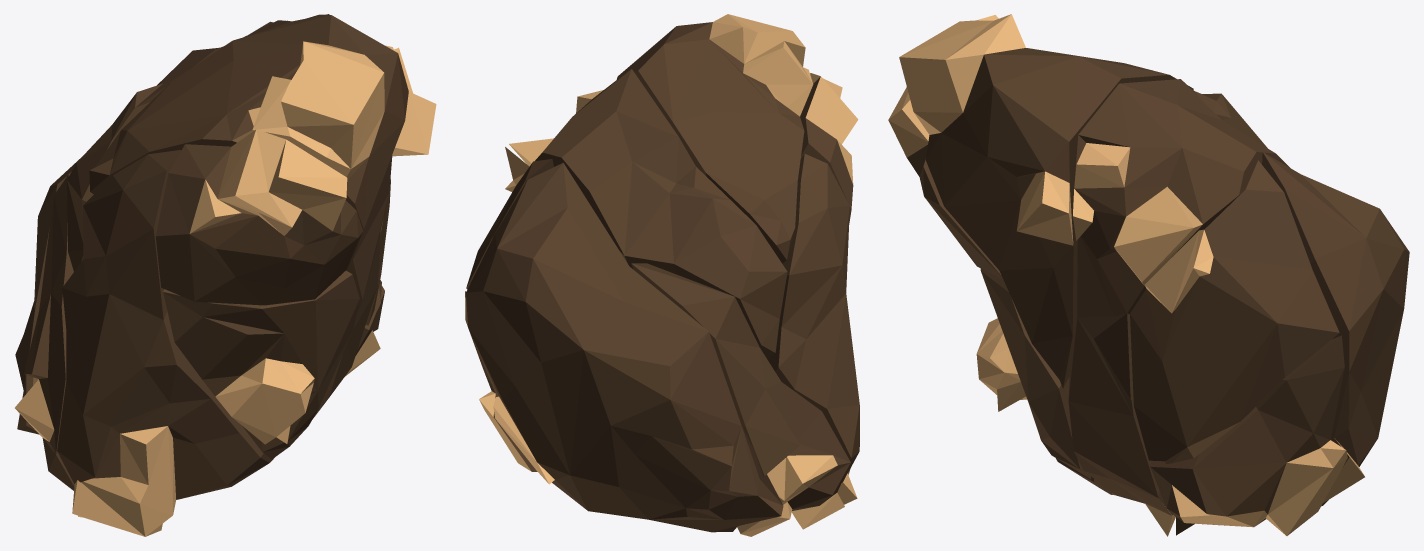
File: SM_LP_PyriteOre_Pieces.fbx
The picture shows the model from 3 angles, left to right: view 1: azimuth 30°, elevation 25°; view 2: azimuth 150°, elevation 25°; view 3: azimuth 270°, elevation 25°; orthographic projection. The views are drawn at different scales.
Visible parts, largest first — view 1: SM_LP_PyriteOre_Piece_1, SM_LP_PyriteOre_Piece_4, SM_LP_PyriteOre_Piece_2, SM_LP_PyriteOre_Piece_3, SM_LP_PyriteOre_Piece_6, SM_LP_PyriteOre_Piece_5, SM_LP_PyriteOre_Piece_7, SM_LP_PyriteOre_Piece_9; view 2: SM_LP_PyriteOre_Piece_7, SM_LP_PyriteOre_Piece_5, SM_LP_PyriteOre_Piece_4, SM_LP_PyriteOre_Piece_6, SM_LP_PyriteOre_Piece_1, SM_LP_PyriteOre_Piece_2, SM_LP_PyriteOre_Piece_8, SM_LP_PyriteOre_Piece_9; view 3: SM_LP_PyriteOre_Piece_5, SM_LP_PyriteOre_Piece_4, SM_LP_PyriteOre_Piece_8, SM_LP_PyriteOre_Piece_9, SM_LP_PyriteOre_Piece_7, SM_LP_PyriteOre_Piece_3, SM_LP_PyriteOre_Piece_2.
Part boxes in pixels (bbox=[...]): SM_LP_PyriteOre_Piece_1: bbox=[57, 150, 274, 536]; SM_LP_PyriteOre_Piece_4: bbox=[89, 14, 436, 316]; SM_LP_PyriteOre_Piece_2: bbox=[155, 129, 363, 305]; SM_LP_PyriteOre_Piece_3: bbox=[163, 270, 359, 459]; SM_LP_PyriteOre_Piece_6: bbox=[15, 171, 82, 517]; SM_LP_PyriteOre_Piece_5: bbox=[67, 14, 412, 419]; SM_LP_PyriteOre_Piece_7: bbox=[15, 21, 273, 434]; SM_LP_PyriteOre_Piece_9: bbox=[345, 285, 384, 376]; SM_LP_PyriteOre_Piece_7: bbox=[466, 162, 783, 532]; SM_LP_PyriteOre_Piece_5: bbox=[509, 69, 787, 360]; SM_LP_PyriteOre_Piece_4: bbox=[616, 14, 813, 263]; SM_LP_PyriteOre_Piece_6: bbox=[631, 263, 850, 536]; SM_LP_PyriteOre_Piece_1: bbox=[768, 154, 859, 504]; SM_LP_PyriteOre_Piece_2: bbox=[800, 73, 858, 224]; SM_LP_PyriteOre_Piece_8: bbox=[466, 147, 553, 289]; SM_LP_PyriteOre_Piece_9: bbox=[465, 291, 537, 471]; SM_LP_PyriteOre_Piece_5: bbox=[1068, 79, 1289, 536]; SM_LP_PyriteOre_Piece_4: bbox=[899, 14, 1193, 392]; SM_LP_PyriteOre_Piece_8: bbox=[1130, 160, 1339, 464]; SM_LP_PyriteOre_Piece_9: bbox=[1150, 335, 1347, 535]; SM_LP_PyriteOre_Piece_7: bbox=[1176, 152, 1409, 535]; SM_LP_PyriteOre_Piece_3: bbox=[976, 268, 1091, 479]; SM_LP_PyriteOre_Piece_2: bbox=[888, 87, 1003, 279].
Size of the model in its own units: 0.7442 by 0.9663 by 0.8683.
